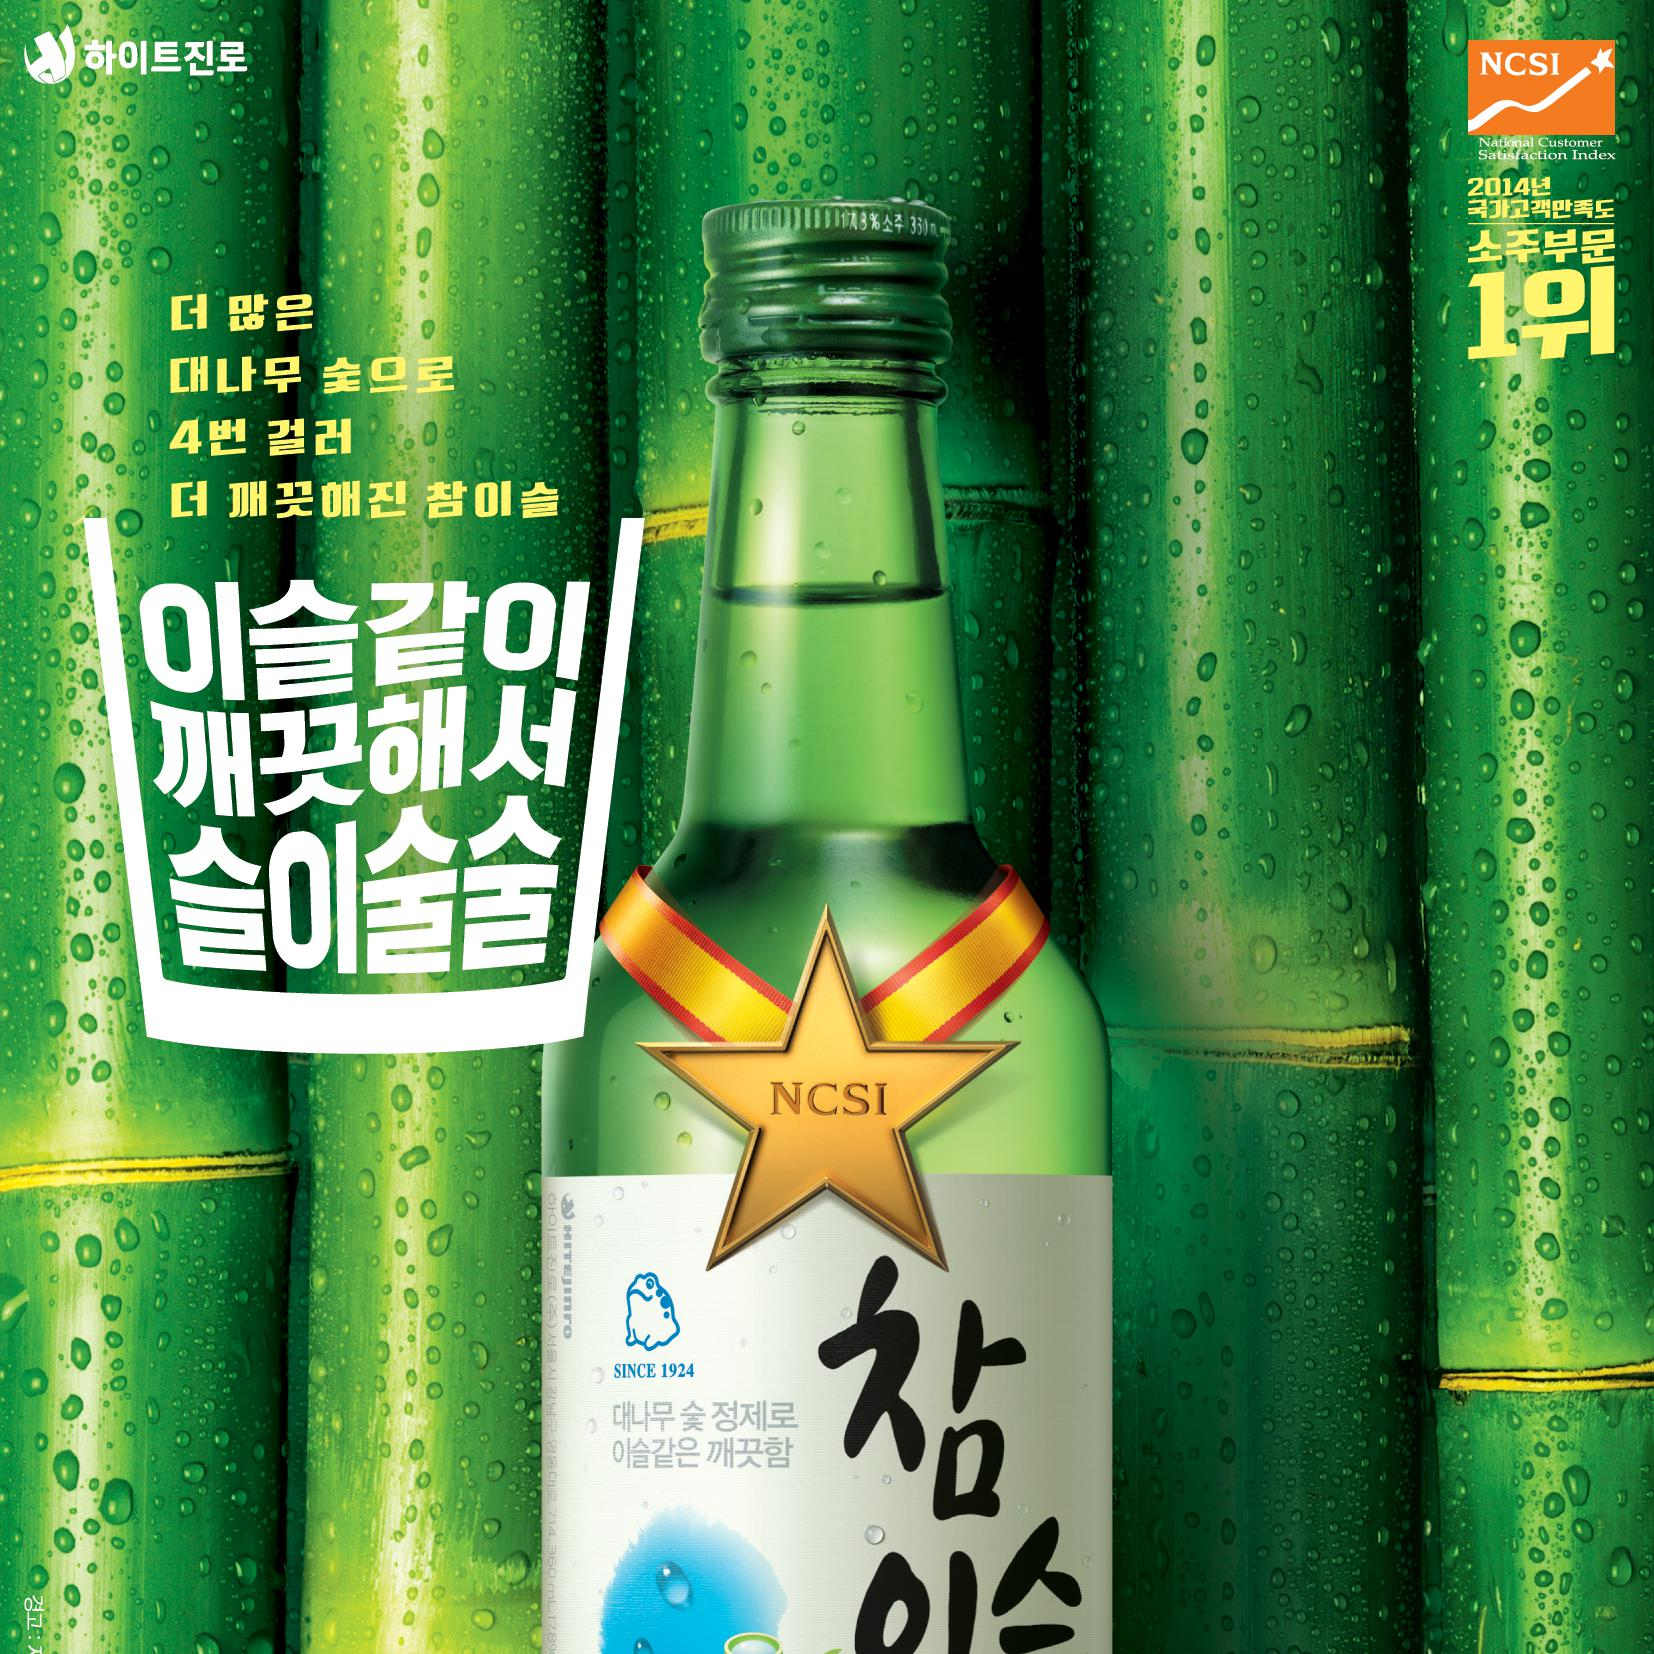soju: (535, 195, 1157, 1654)
